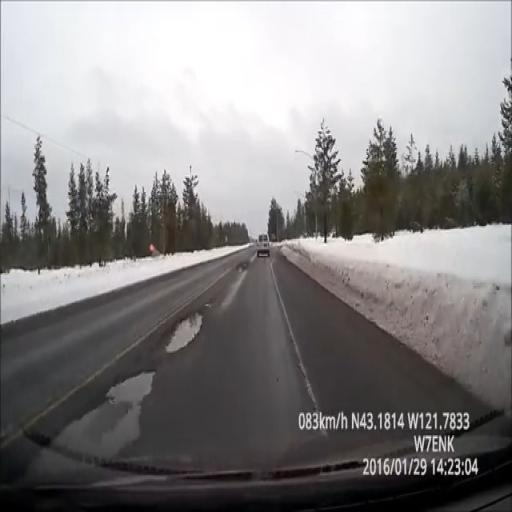Potholes: (58, 371, 154, 454), (166, 313, 202, 351)
